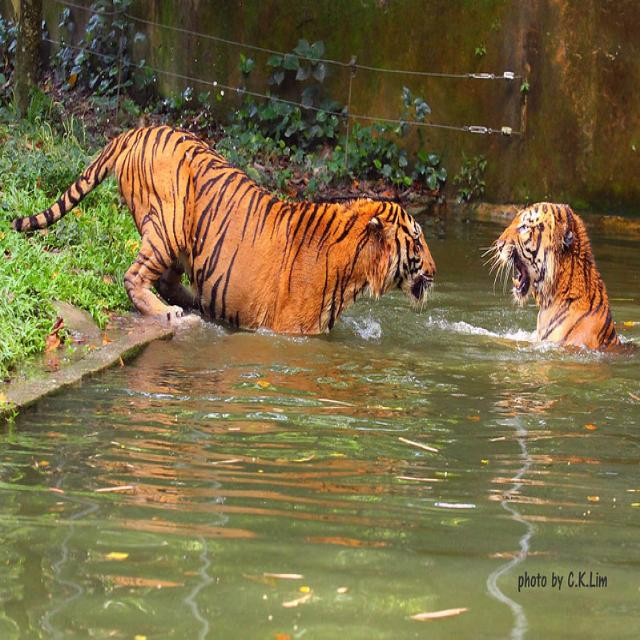Tiger: (26, 124, 436, 336), (495, 198, 619, 350)
